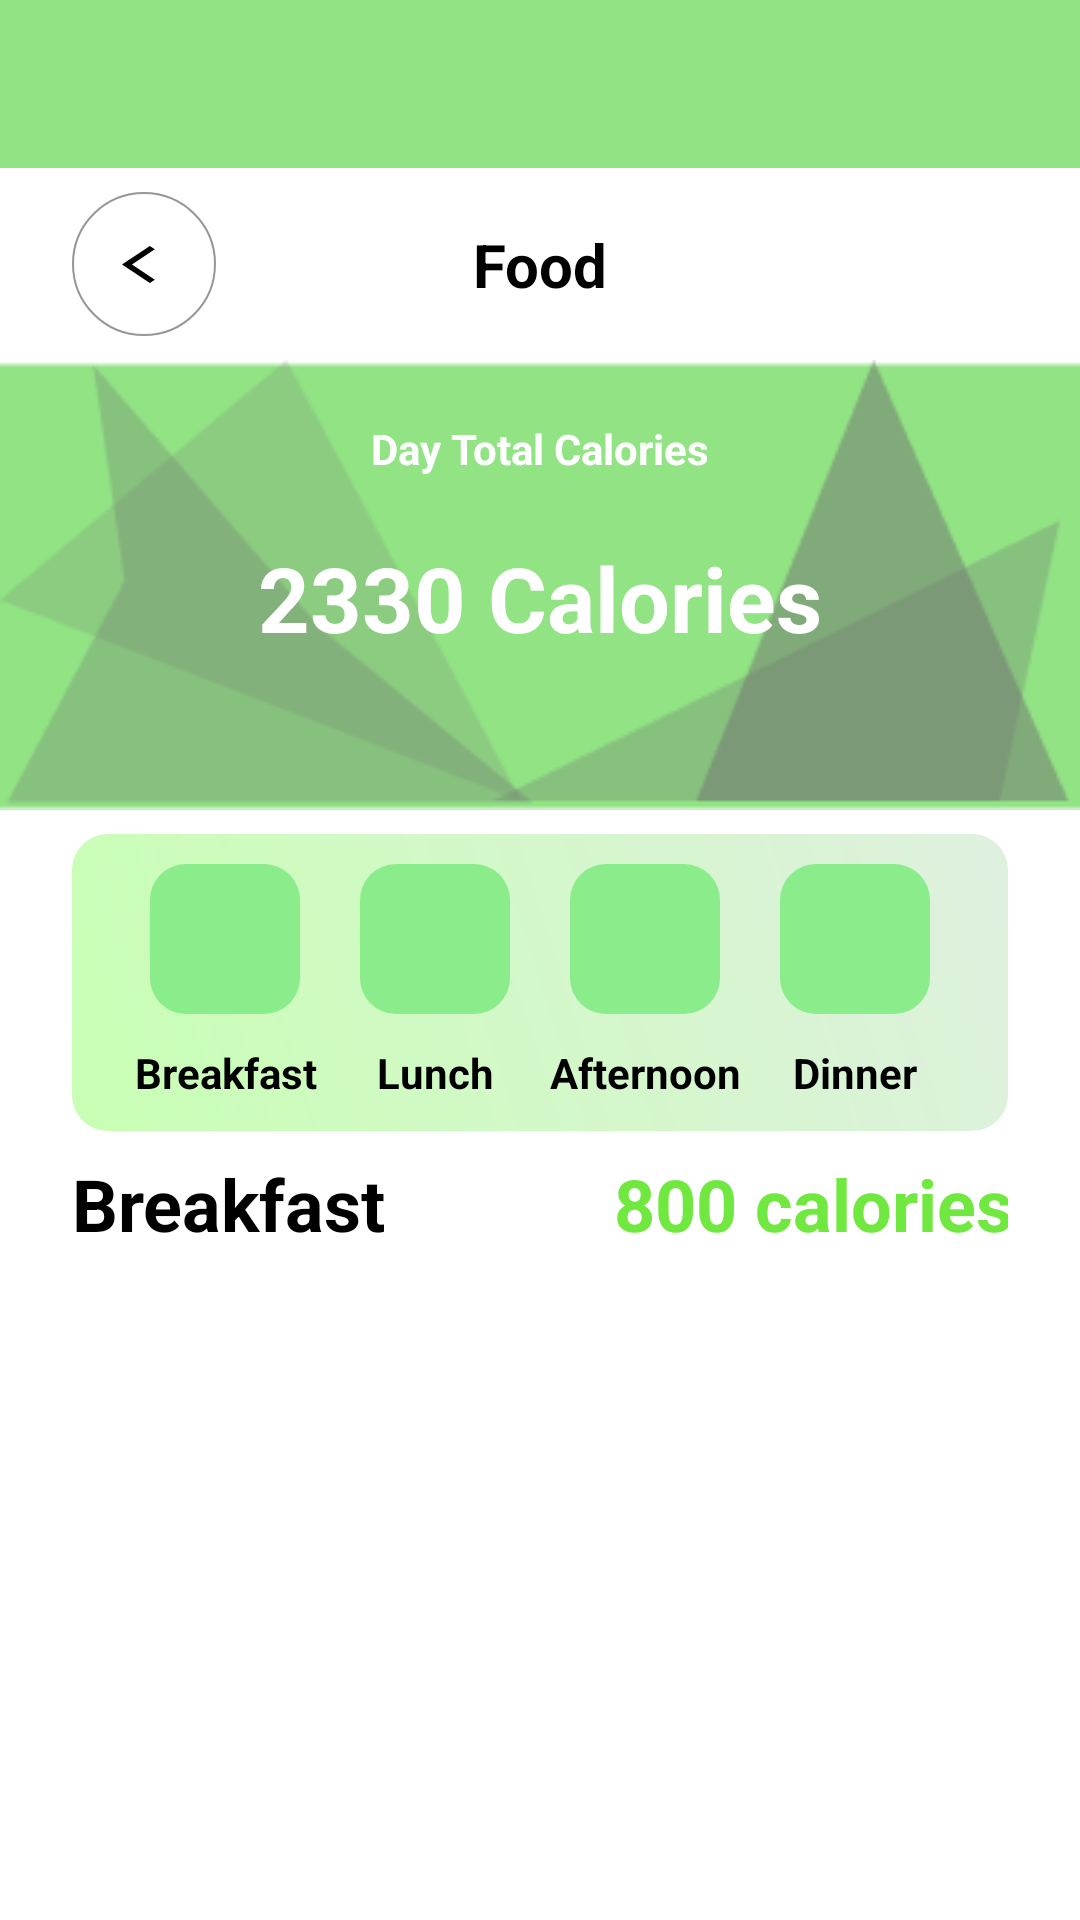

Icons on this 1080*1920 Android screen, each with its box as (x1, y1, x2, y2):
back: (72, 192, 216, 336)
